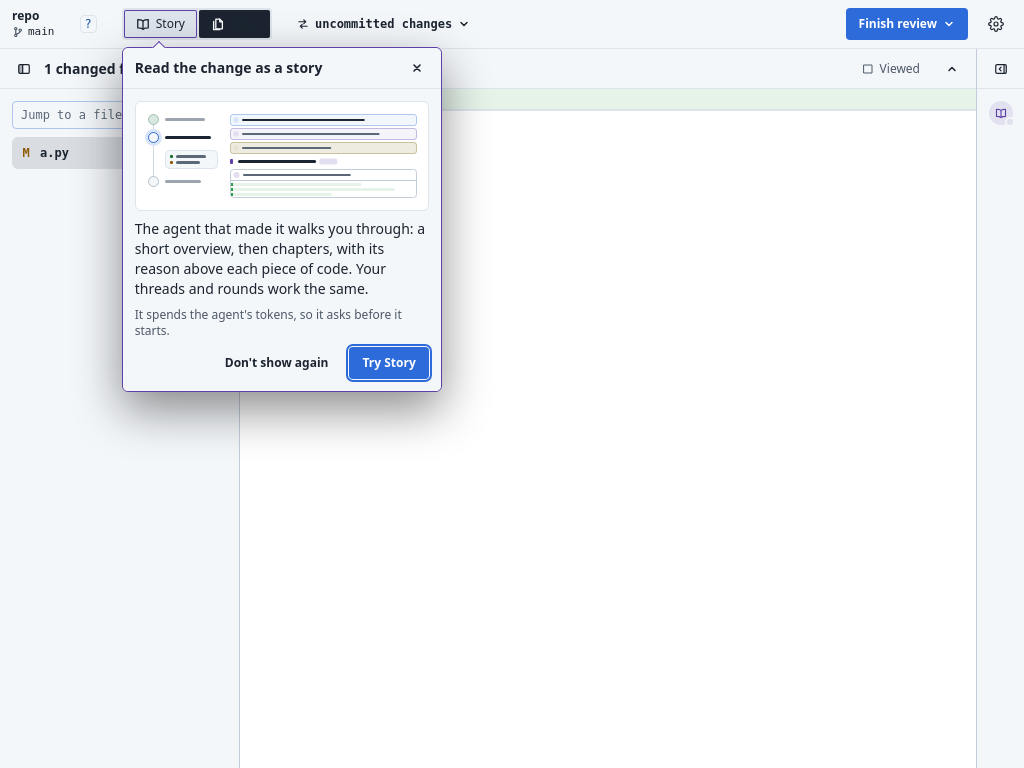
it: Story introduced at the switch › asks before a story is written, where Try Story is pressed and stories are asked first
Click the button with test id "try-story". click: x=389, y=363
box: [350,347,429,379]
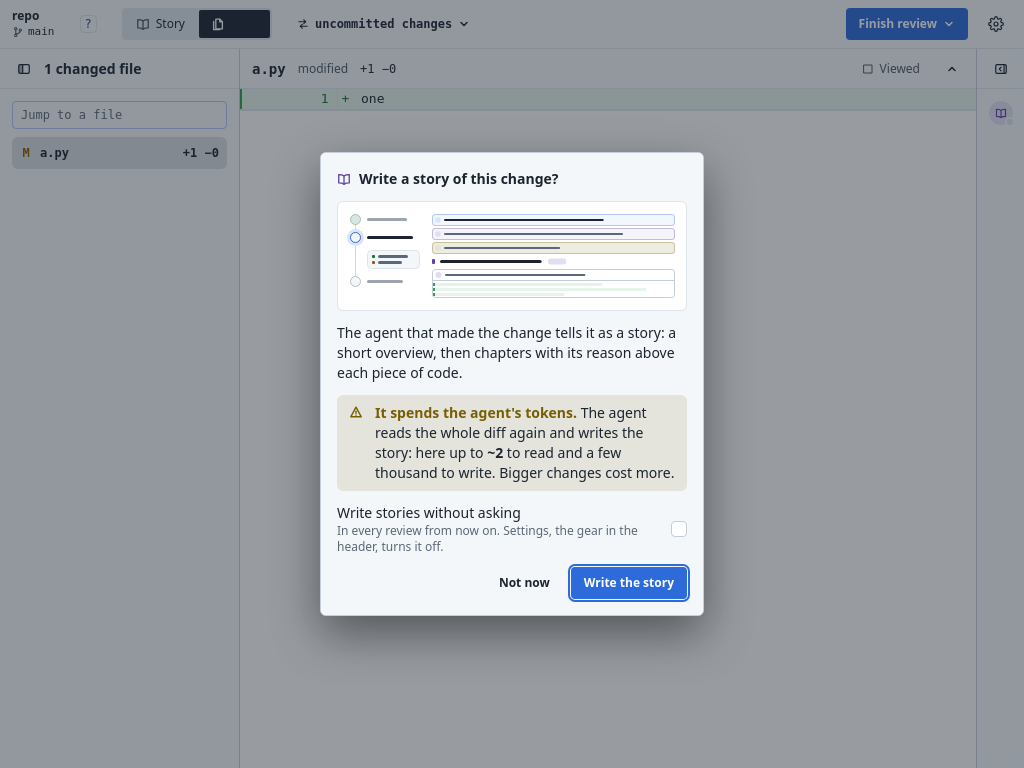
Check: the dialog with test id "story-opt-in" is shown, box [320,152,704,616]
Check: the dialog with test id "story-introduction" is gone
